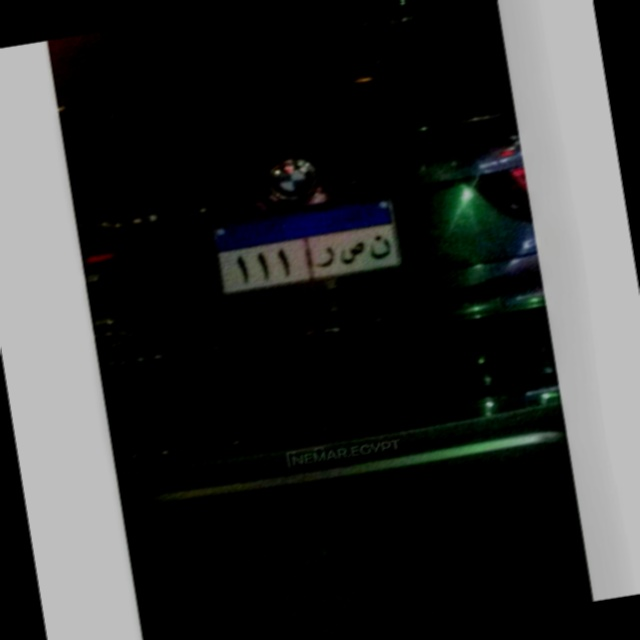License Plate: (206, 191, 408, 299)
